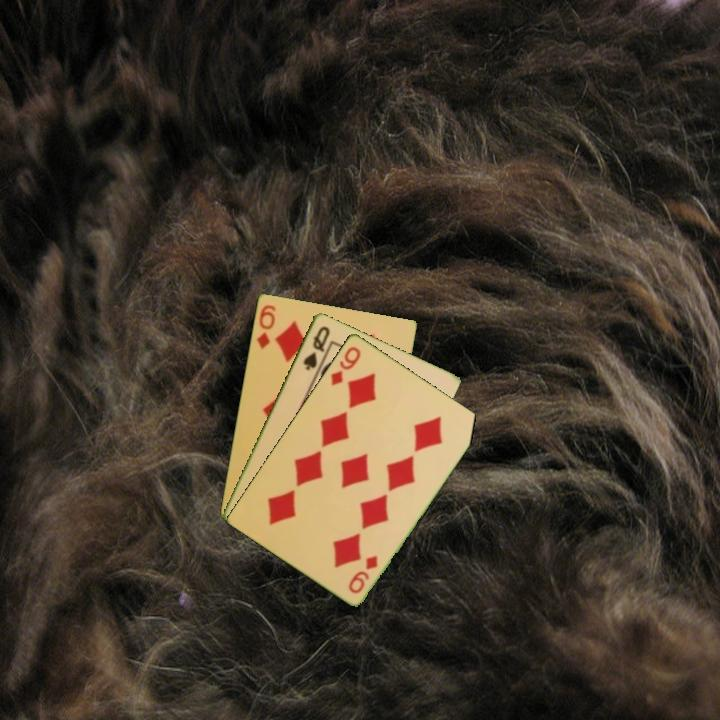6d: (253, 301, 278, 352)
9d: (327, 342, 364, 388), (345, 551, 381, 596)
Qs: (300, 322, 333, 373)
